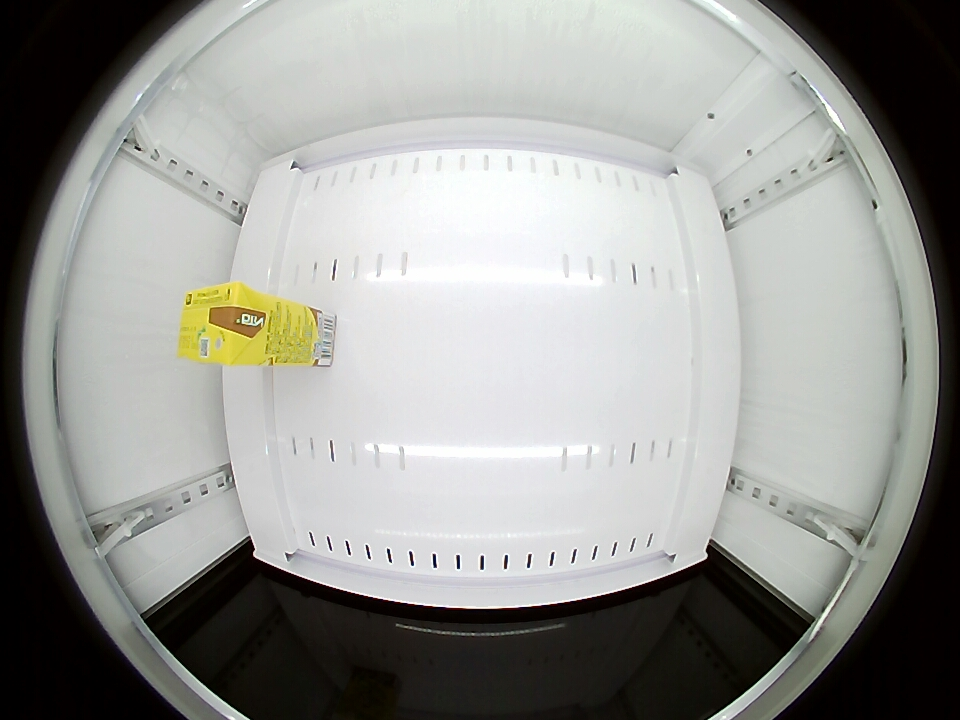weitaningmeng: (178, 282, 270, 366)
